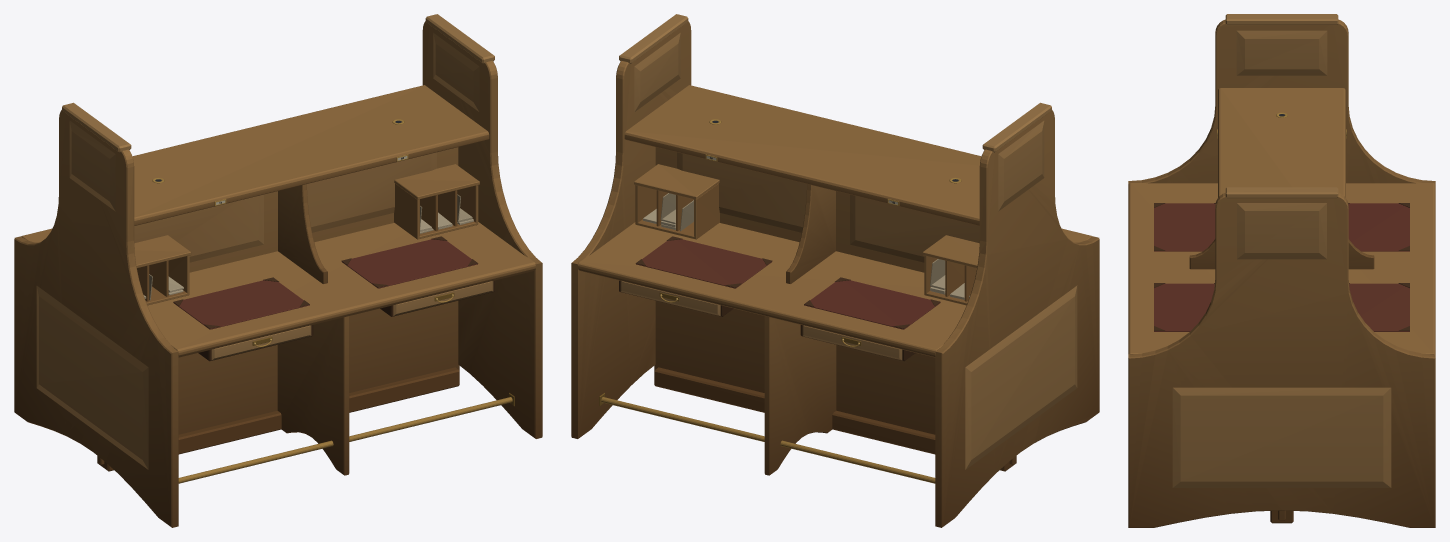
Rendered from carrel_bank.glb.
3 views of the same model, side by side, from view 1: azimuth 30°, elevation 25°; view 2: azimuth 150°, elevation 25°; view 3: azimuth 270°, elevation 25° (orthographic). The views are drawn at different scales.
Visible parts, largest first — view 1: carrel_bank; view 2: carrel_bank; view 3: carrel_bank.
Part boxes in pixels (left/top/right/bottom): carrel_bank: left=14, top=14, right=542, bottom=527; carrel_bank: left=571, top=14, right=1099, bottom=527; carrel_bank: left=1128, top=14, right=1435, bottom=527.
Size of the model in its own units: 1.66 by 1.45 by 1.2.
